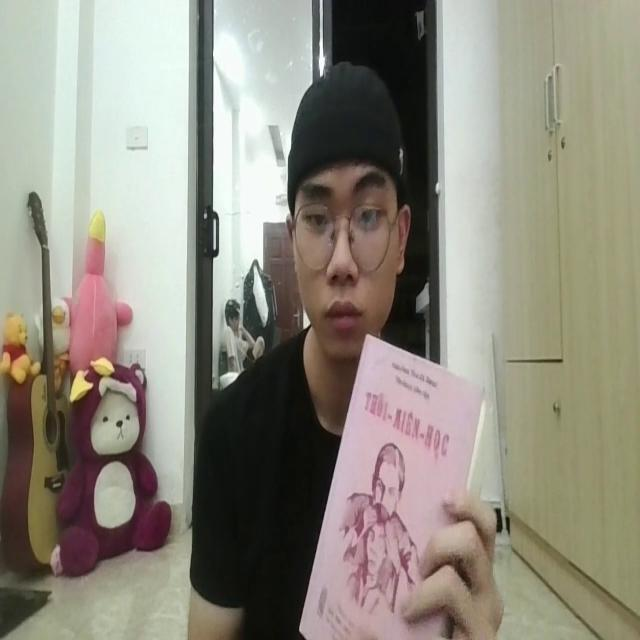book: (307, 321, 481, 640)
student: (186, 50, 493, 640)
